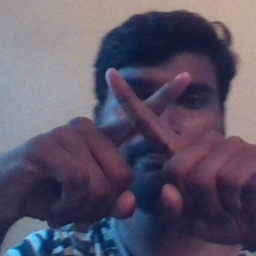X: (64, 60, 220, 219)
